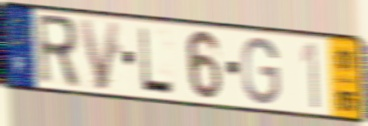1: (300, 40, 321, 112)
6: (184, 27, 224, 104)
G: (241, 35, 282, 107)
L: (137, 24, 177, 97)
R: (34, 11, 82, 91)
V: (76, 17, 123, 93)
